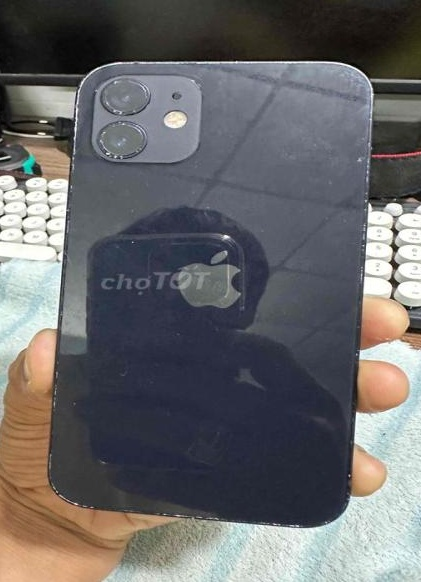scratch: (42, 463, 338, 541), (319, 68, 384, 403), (54, 57, 132, 278)
